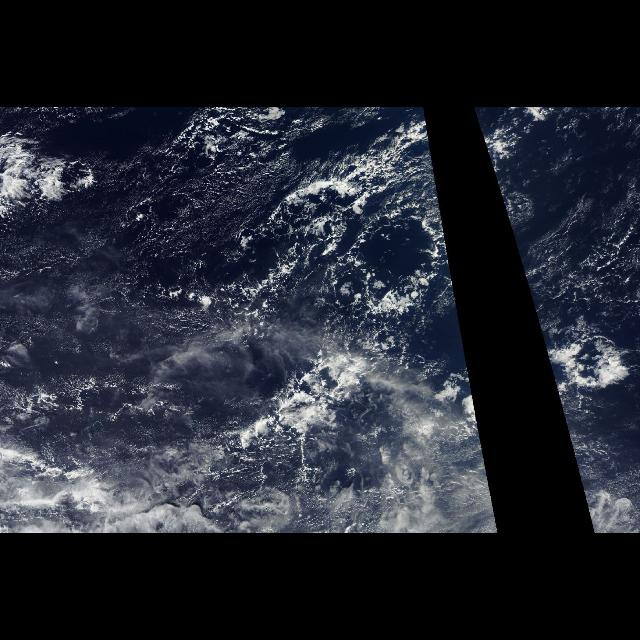Fish: (207, 176, 475, 474)
Gravel: (156, 110, 460, 368)
Sugar: (6, 144, 428, 354)
